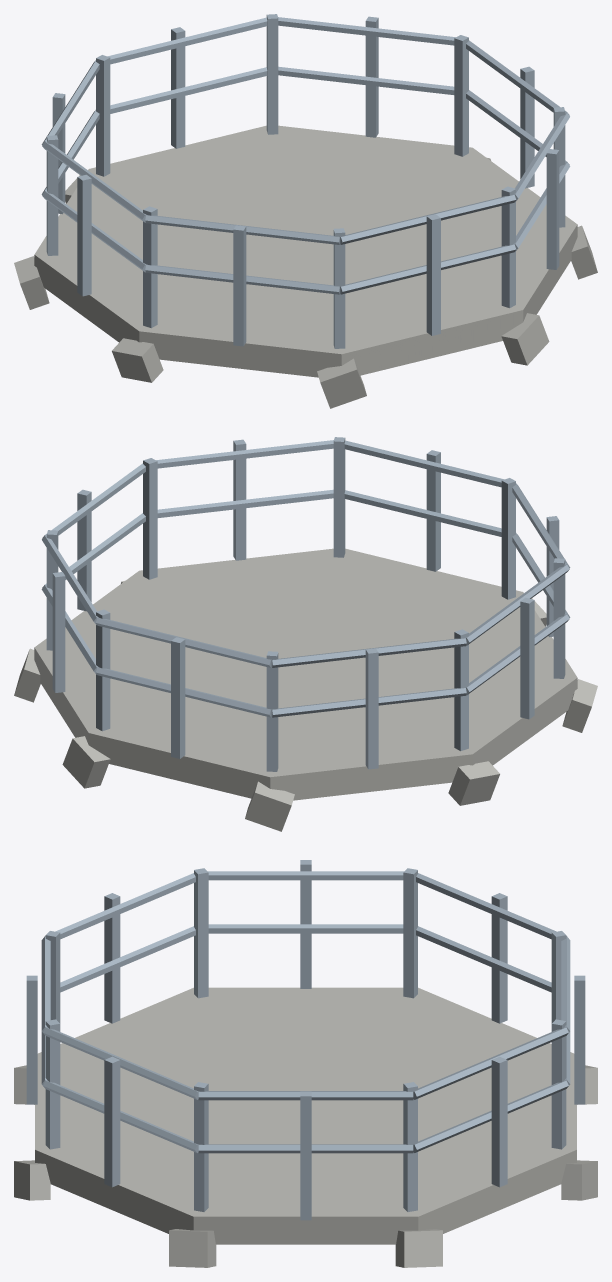
The model's file is wipe-day-survival-island-lighthouse-gallery-rail-14cd257c__27503.glb.
The picture shows the model from 3 angles, top to bottom: view 1: azimuth 30°, elevation 25°; view 2: azimuth 150°, elevation 25°; view 3: azimuth 270°, elevation 25°; orthographic projection. The views are drawn at different scales.
Visible parts, largest first — view 1: lighthouse-gallery-rail; view 2: lighthouse-gallery-rail; view 3: lighthouse-gallery-rail.
Part boxes in pixels (x1,y1,x2,y2): lighthouse-gallery-rail: (14, 14, 597, 408); lighthouse-gallery-rail: (14, 437, 597, 831); lighthouse-gallery-rail: (14, 860, 597, 1267).
Bounding box in the file's own units: 4.25 × 1.4 × 4.18.
